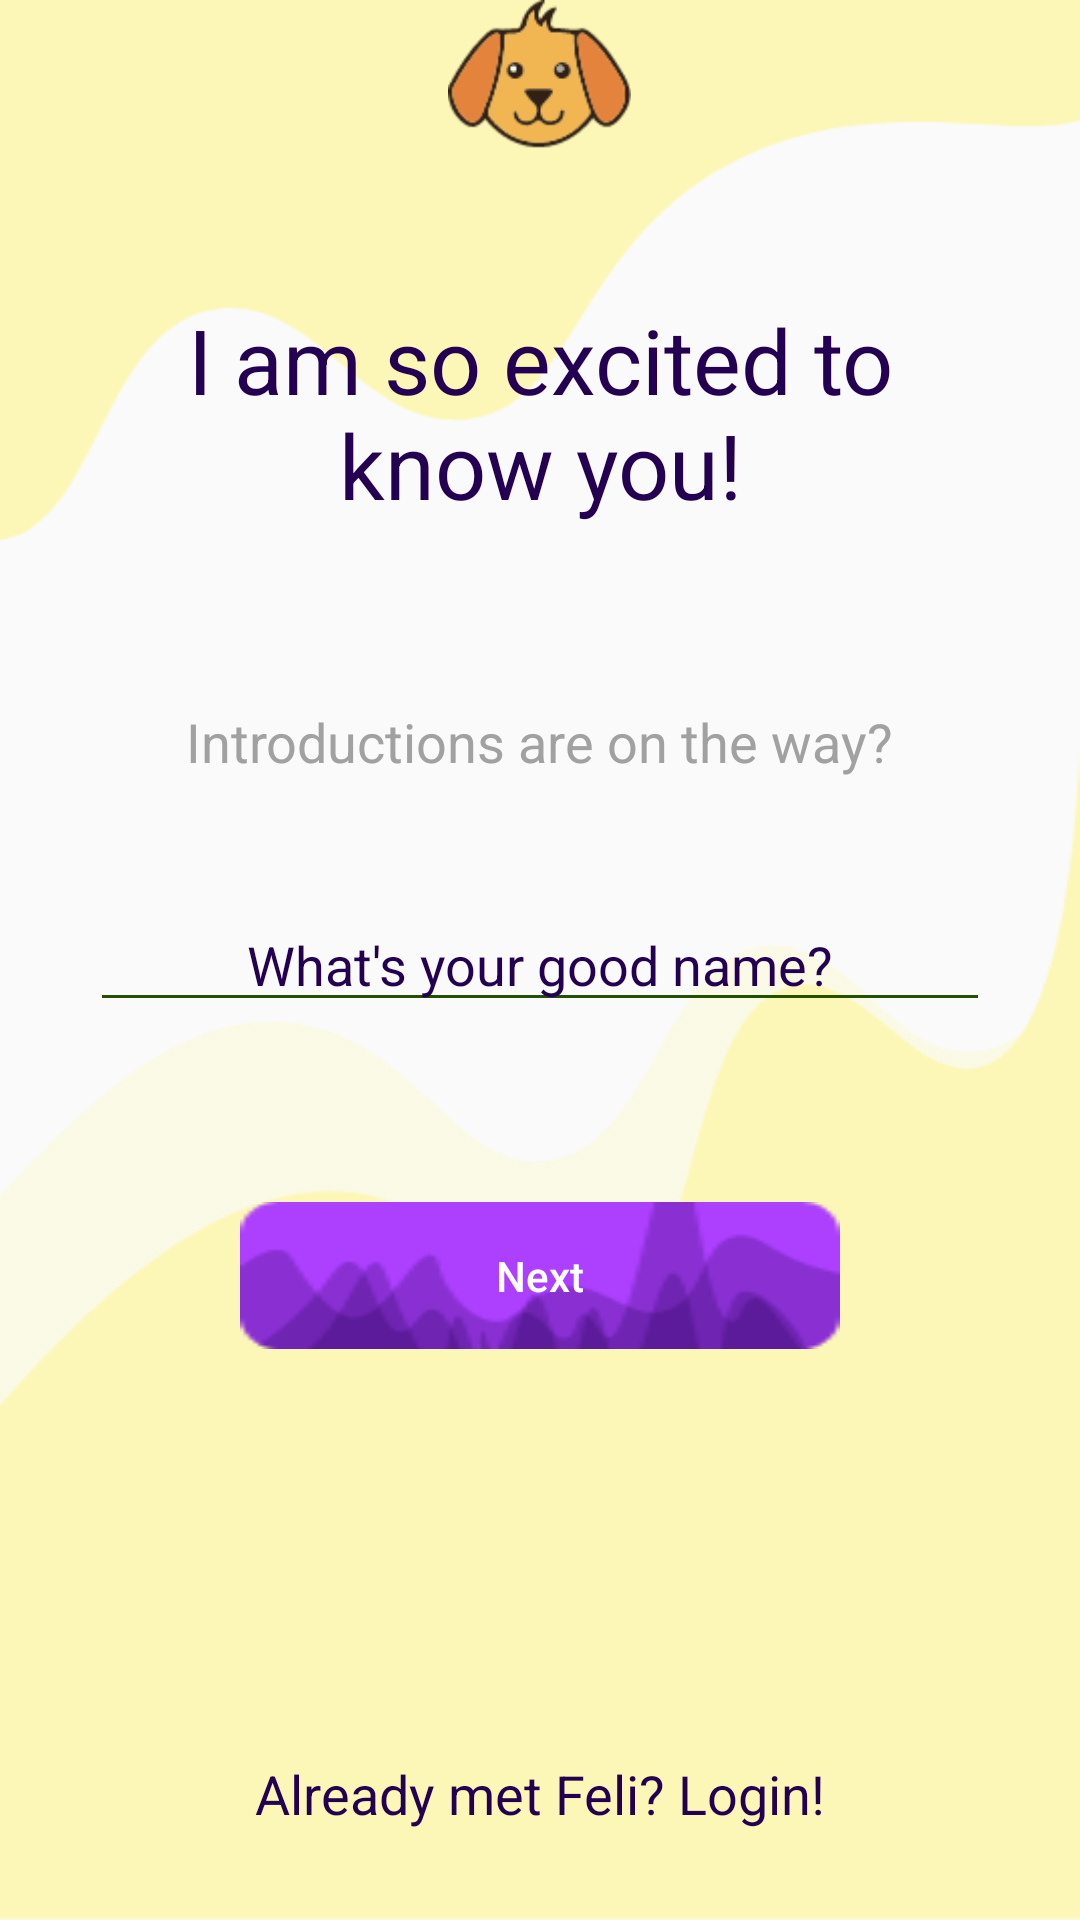

Icon click points for this 1080 x 1920 phone screenshot, format (x=x, y=y):
feli dog: (x=539, y=74)
